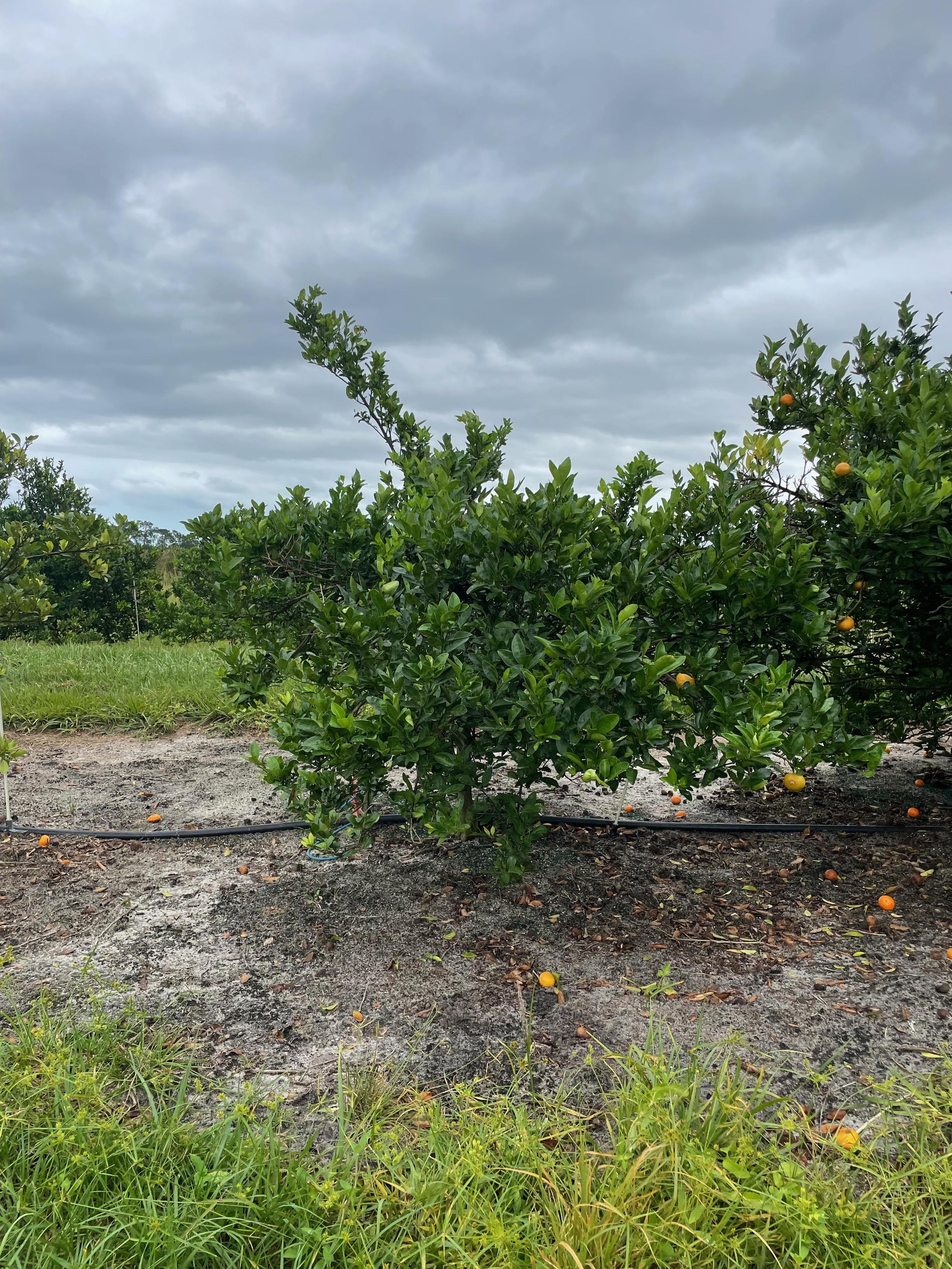fruit_on_ground: (781, 769, 808, 794), (673, 669, 699, 692), (835, 613, 856, 633), (833, 460, 852, 479), (850, 576, 869, 593), (777, 392, 796, 408)
fruit_on_tree: (835, 1125, 863, 1153), (537, 969, 558, 989), (877, 893, 897, 911), (822, 866, 840, 881), (36, 833, 52, 848), (909, 870, 924, 884), (906, 804, 921, 818), (668, 793, 684, 806), (621, 801, 636, 814), (145, 812, 162, 823), (675, 809, 688, 820), (237, 864, 250, 875), (914, 777, 926, 788)
